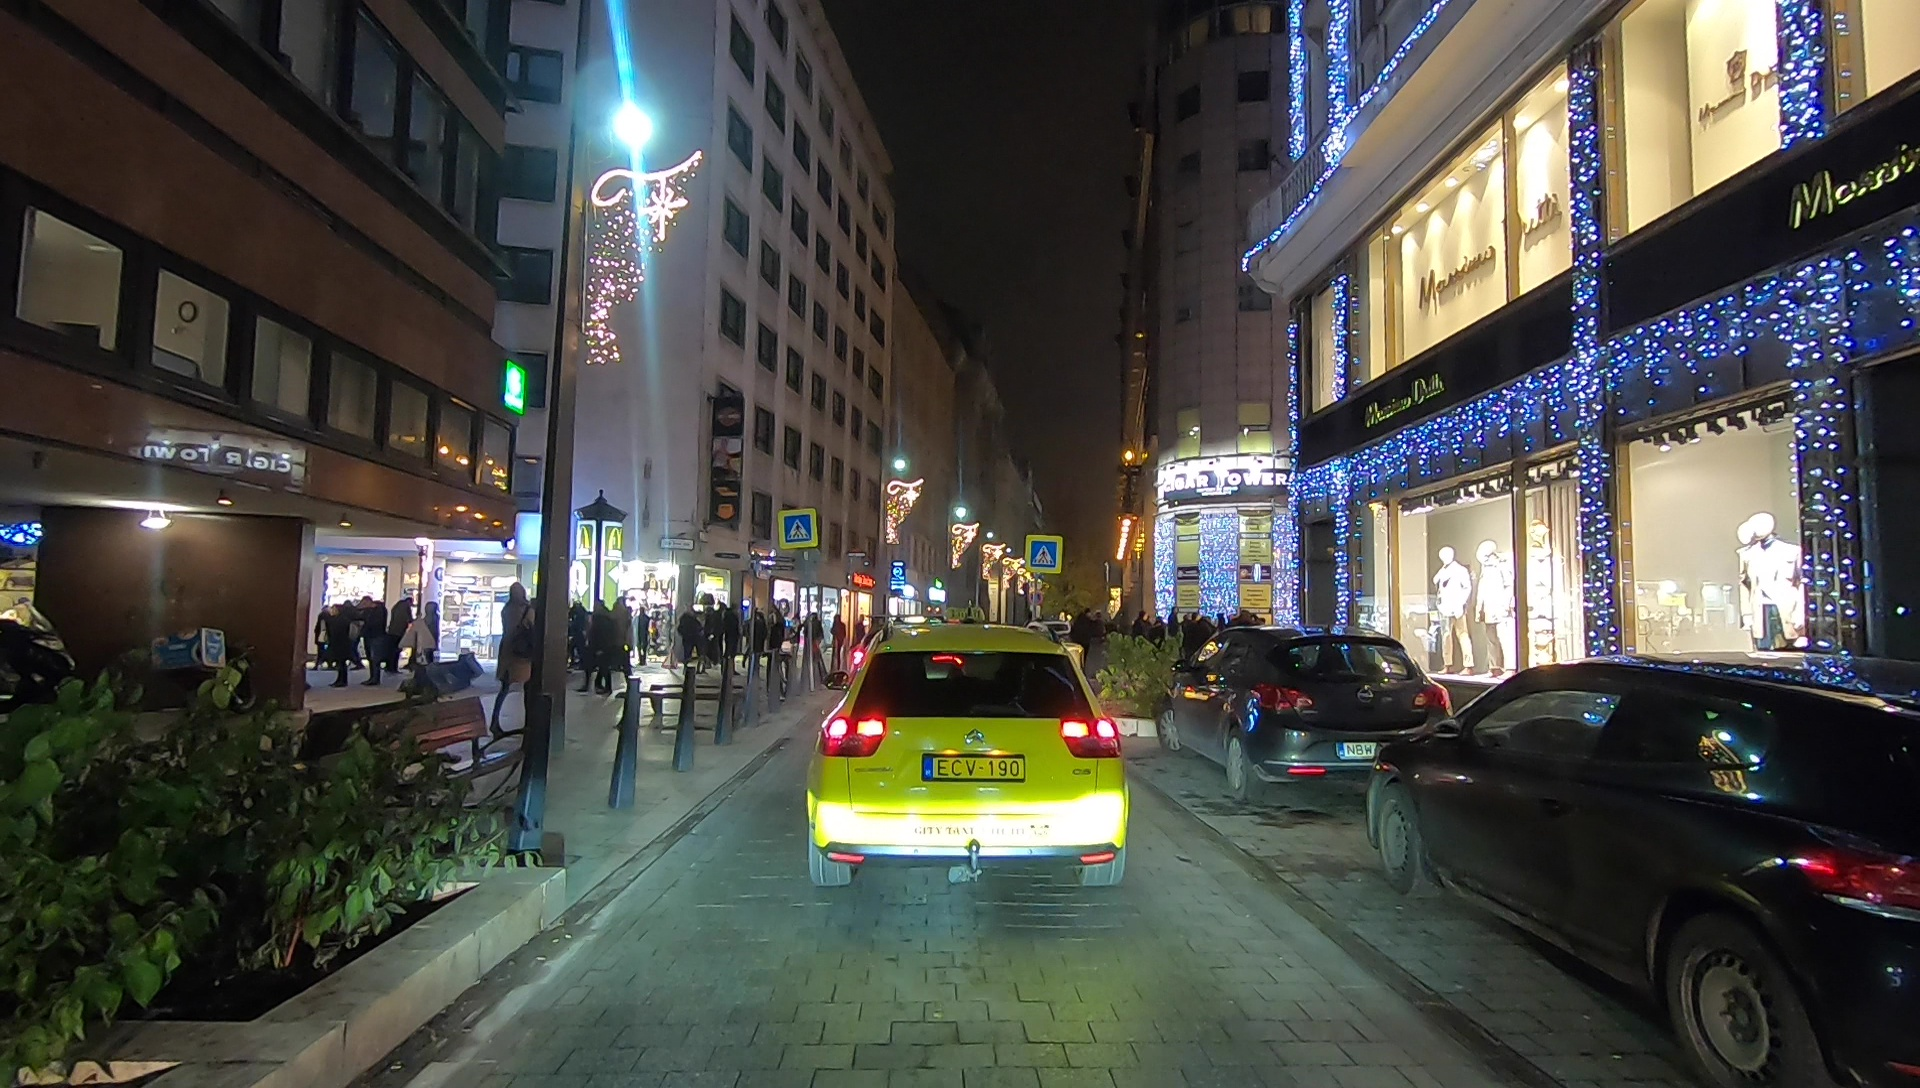person: (497, 586, 532, 739), (582, 599, 614, 699), (358, 600, 382, 686), (388, 595, 414, 673), (330, 604, 351, 695), (719, 599, 739, 682), (417, 599, 438, 673), (1184, 610, 1206, 676), (1088, 611, 1104, 699), (678, 610, 697, 678), (704, 599, 719, 680), (767, 608, 784, 673), (832, 613, 845, 684), (1076, 611, 1089, 676), (1134, 613, 1147, 678)
